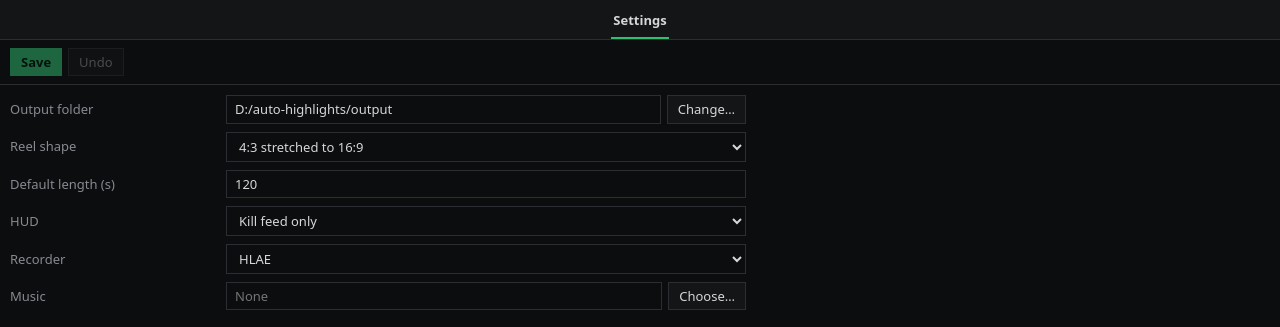
a rejected value is shown and nothing else changes
Replace the text in the number field named "Default length" with "5": (486, 184) [226,170,746,198]
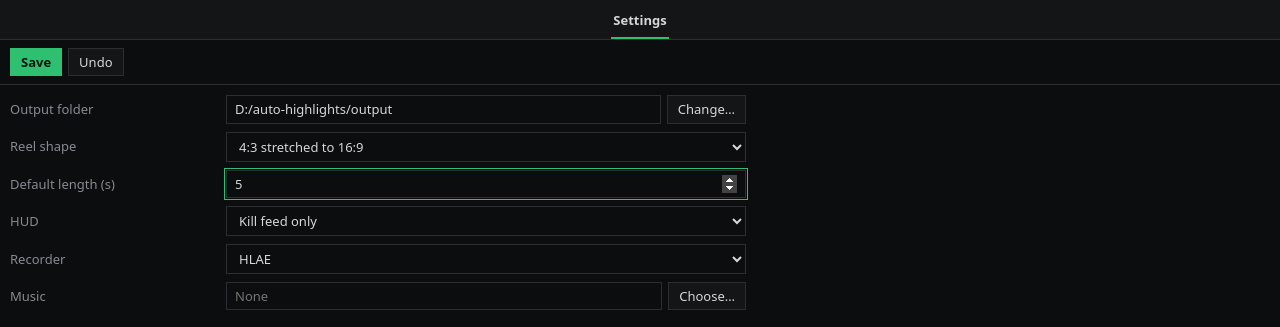
Click the button "Save": (36, 62) [10,48,62,76]
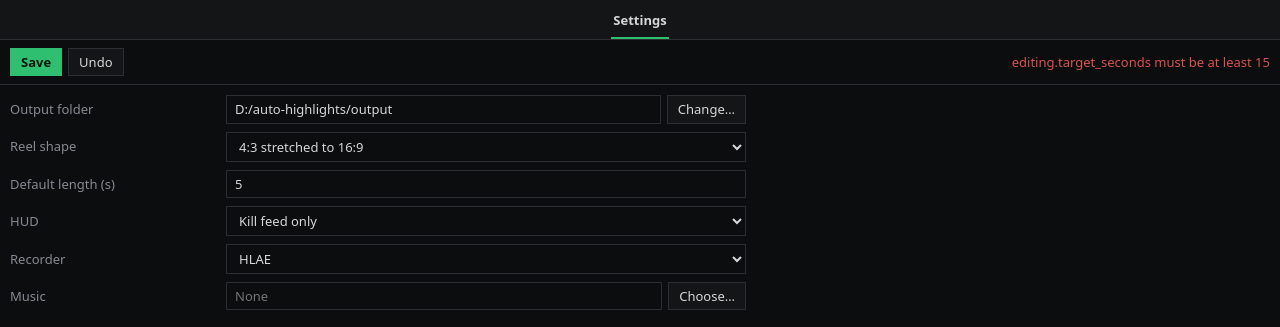
Now the text "editing.target_seconds must be at least 15" is shown, box [1012,53,1270,71]
